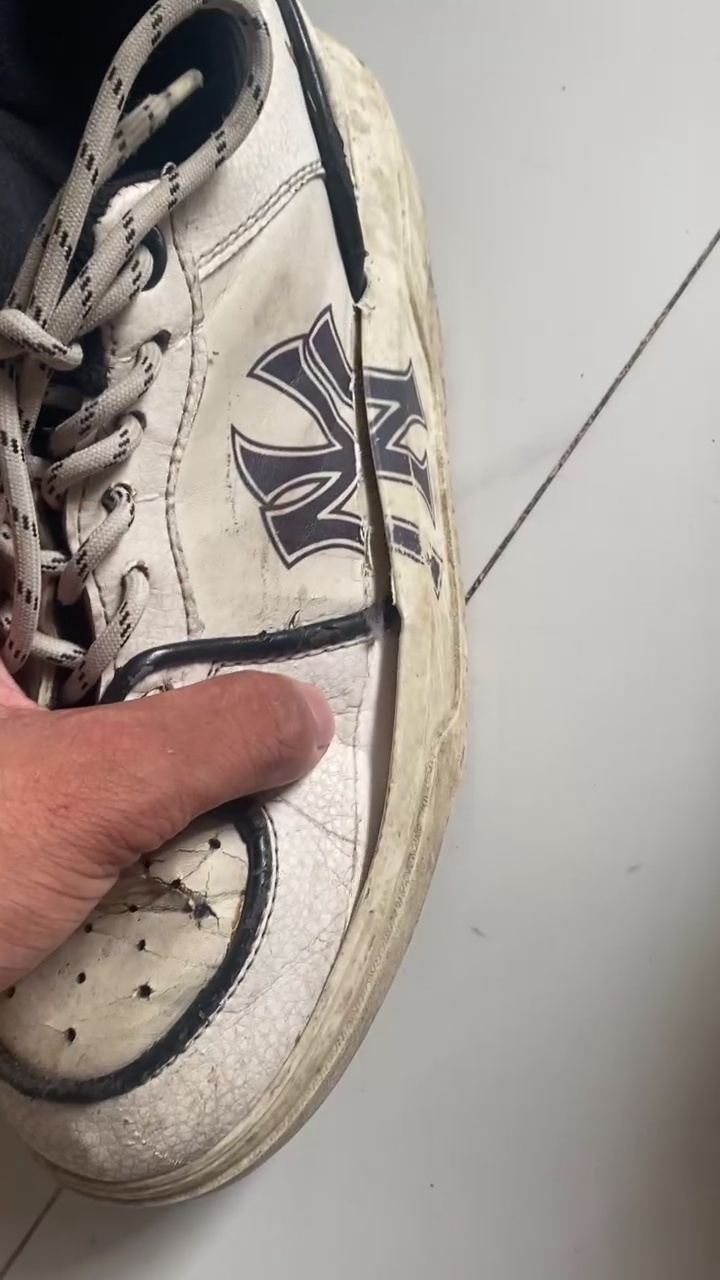bonding: (352, 574, 418, 845), (349, 373, 399, 567)
